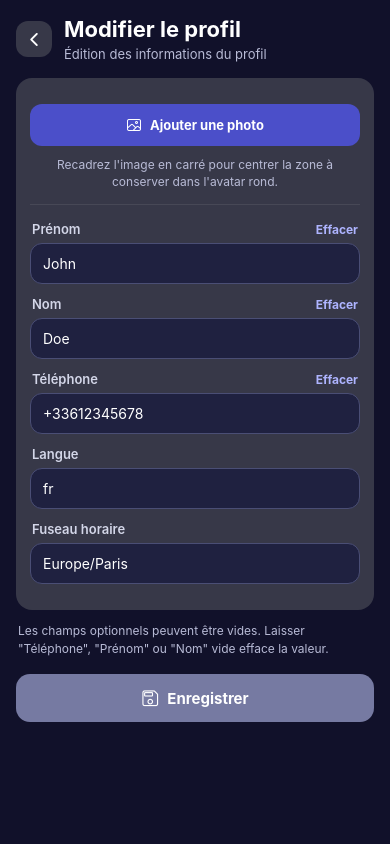
Test: ProfileEditScreen › clears lastName when "Effacer" is pressed for lastName
Click the 2nd text "Effacer" at (337, 304), box [316,296,358,312]
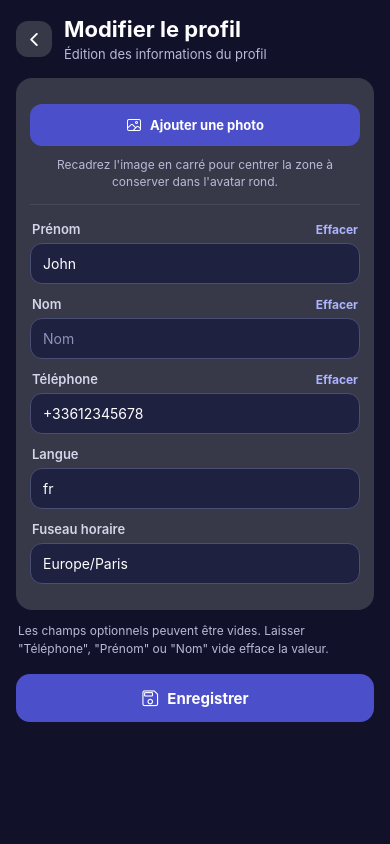
Expected: the field with test id "input-lastName" is empty, [30,318,360,359]
